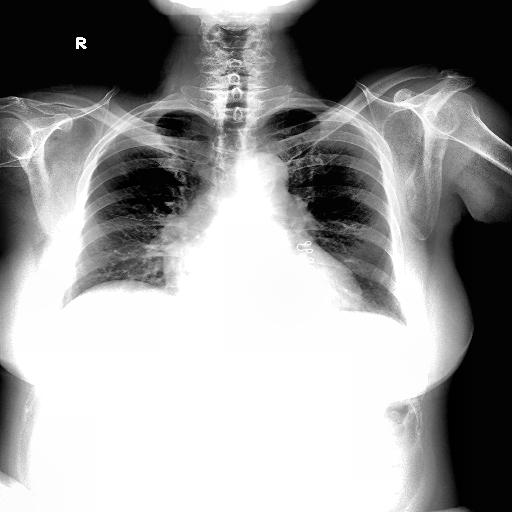0- Aortic enlargement: (238, 150, 290, 199), (238, 152, 288, 196), (242, 154, 286, 183)
3- Cardiomegaly: (158, 232, 364, 314), (162, 249, 362, 312), (159, 262, 366, 308)
7- Lung Opacity: (178, 187, 215, 234)
9- Other lesion: (178, 187, 215, 234)
